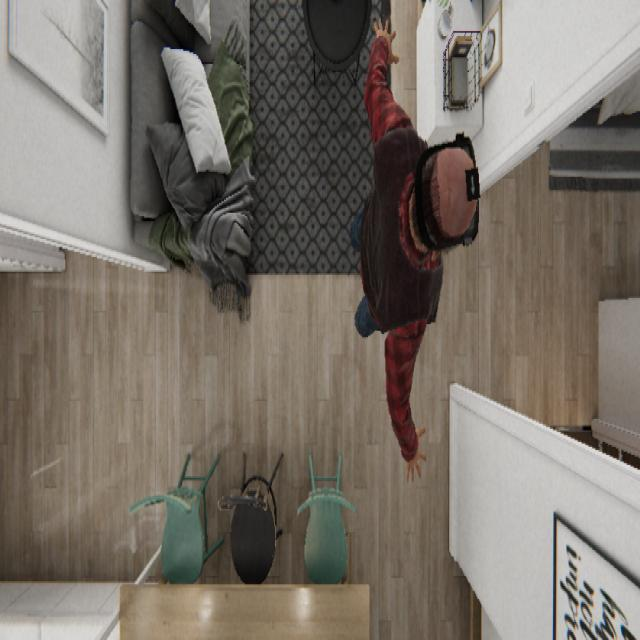Human: (350, 15, 480, 481)
UnityLogo: (464, 162, 480, 201)
